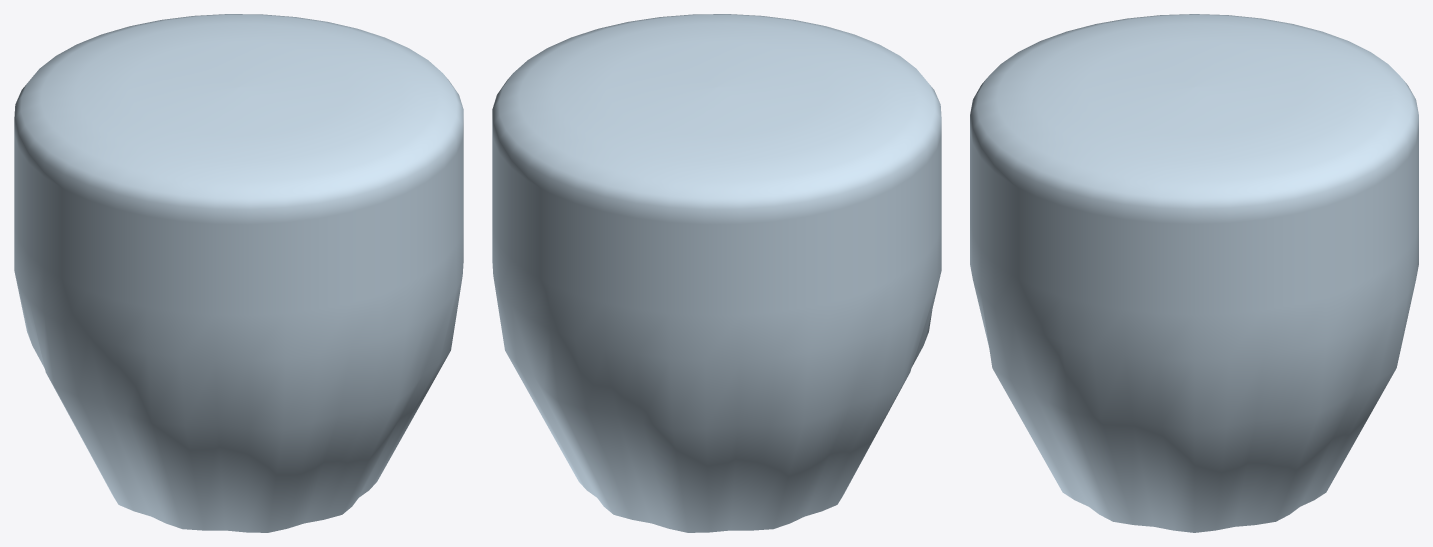
File: shell_bell.glb
3 views of the same model, side by side, from view 1: azimuth 30°, elevation 25°; view 2: azimuth 150°, elevation 25°; view 3: azimuth 270°, elevation 25° (orthographic).
Visible parts, largest first — view 1: ShellBell; view 2: ShellBell; view 3: ShellBell.
Boxes of the visible parts, box(x1,y1,x2,y2) form: ShellBell: box(14, 14, 463, 532); ShellBell: box(492, 14, 941, 532); ShellBell: box(970, 14, 1418, 532).
Size of the model in its own units: 2.7 by 2.72 by 2.7.
